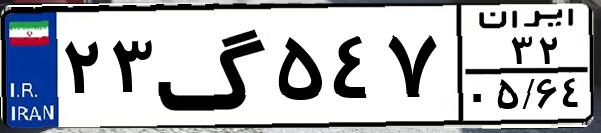0: (470, 70, 495, 125)
2: (57, 26, 110, 100), (537, 27, 568, 80)
3: (110, 28, 156, 98), (508, 27, 537, 80)
4: (330, 28, 385, 110), (560, 70, 590, 125)
5: (270, 28, 330, 110), (495, 70, 520, 125)
6: (535, 70, 560, 125)
7: (385, 28, 445, 110)
گ: (156, 12, 270, 120)
